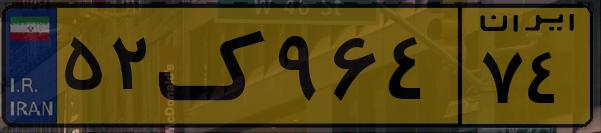2: (110, 28, 158, 98)
4: (385, 28, 445, 110), (525, 38, 570, 115)
5: (57, 26, 110, 100)
6: (330, 28, 385, 110)
7: (475, 38, 525, 113)
9: (270, 28, 330, 110)
ک: (158, 12, 270, 120)
